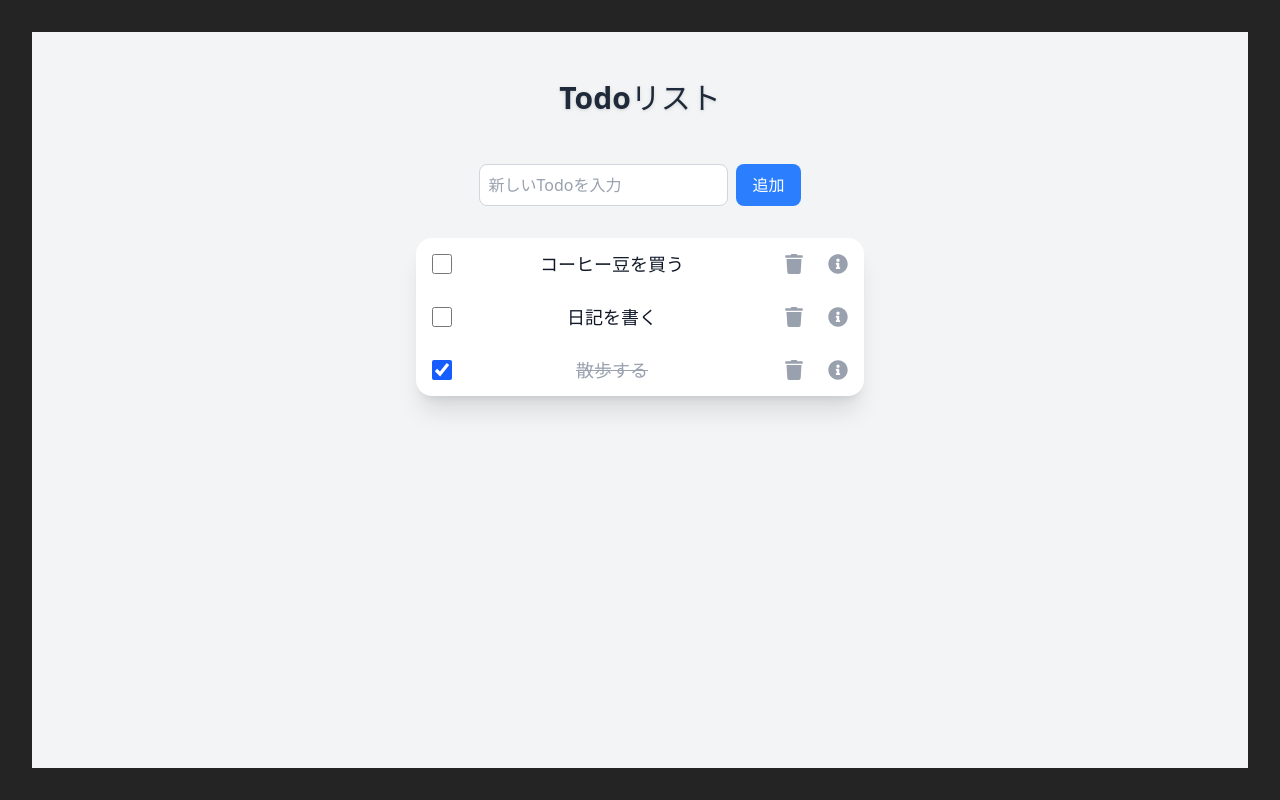
Test case: Todoを削除できる
Type "ラジオを聴く" into the field with placeholder "新しいTodoを入力" at {"x": 604, "y": 185}, box x1=480 y1=164 x2=728 y2=206
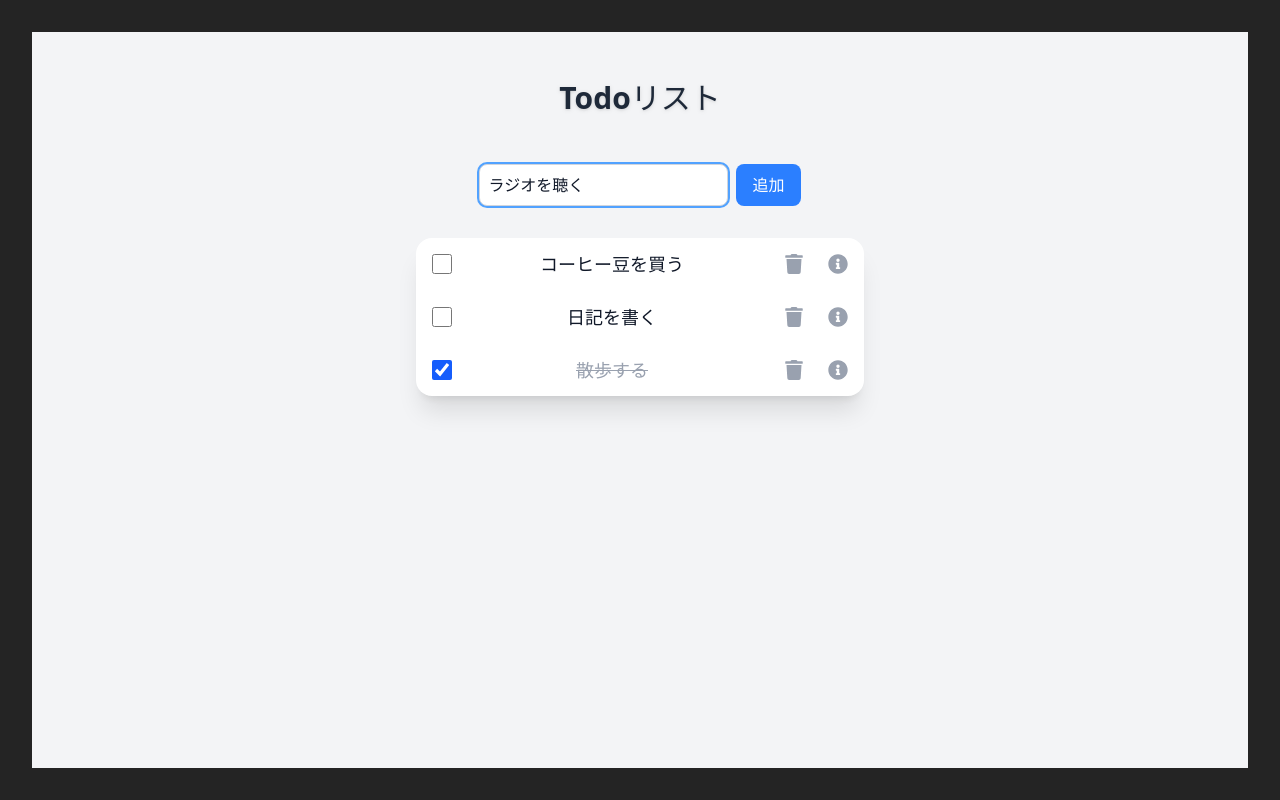
Click the button "追加" at {"x": 768, "y": 185}, box x1=736 y1=164 x2=800 y2=206
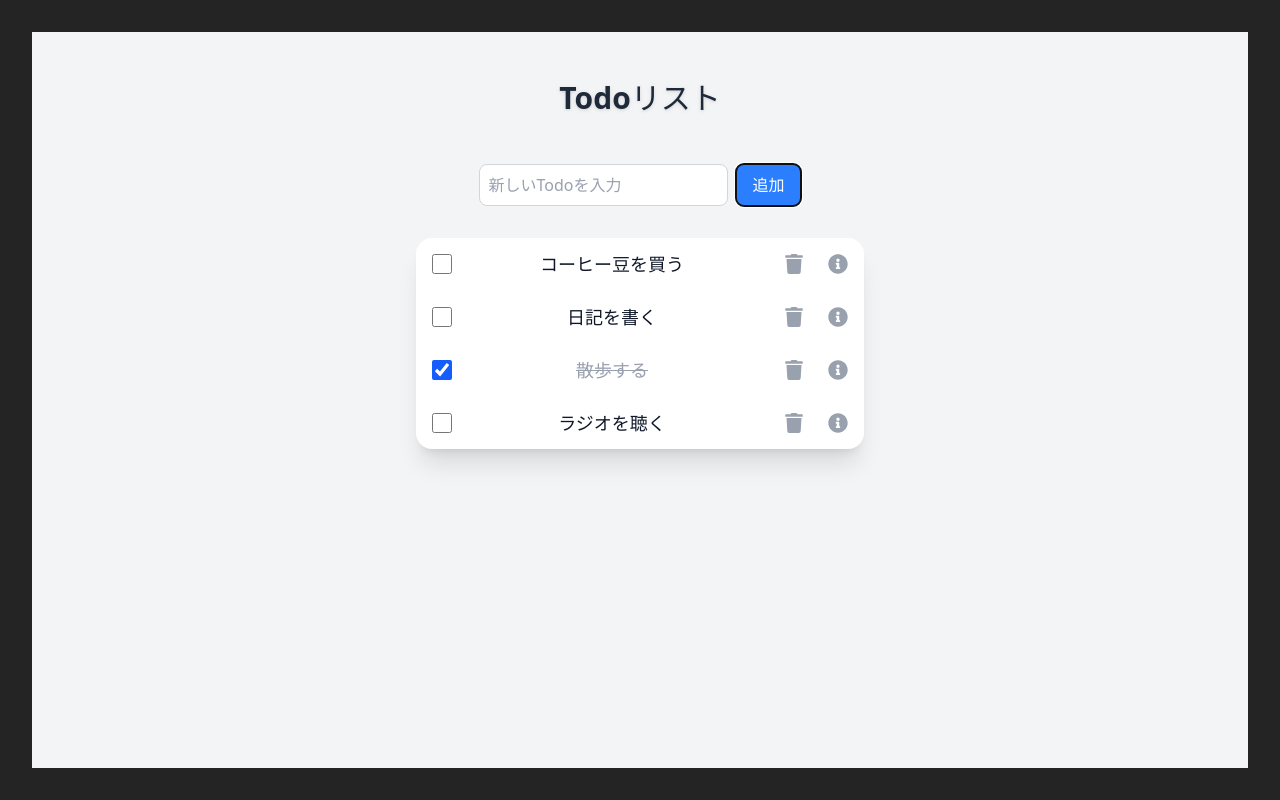
Expected: the text "ラジオを聴く" is shown, x1=558 y1=411 x2=666 y2=435
Click the button titled "削除" next to "ラジオを聴く" at {"x": 794, "y": 423}, box x1=780 y1=409 x2=808 y2=437
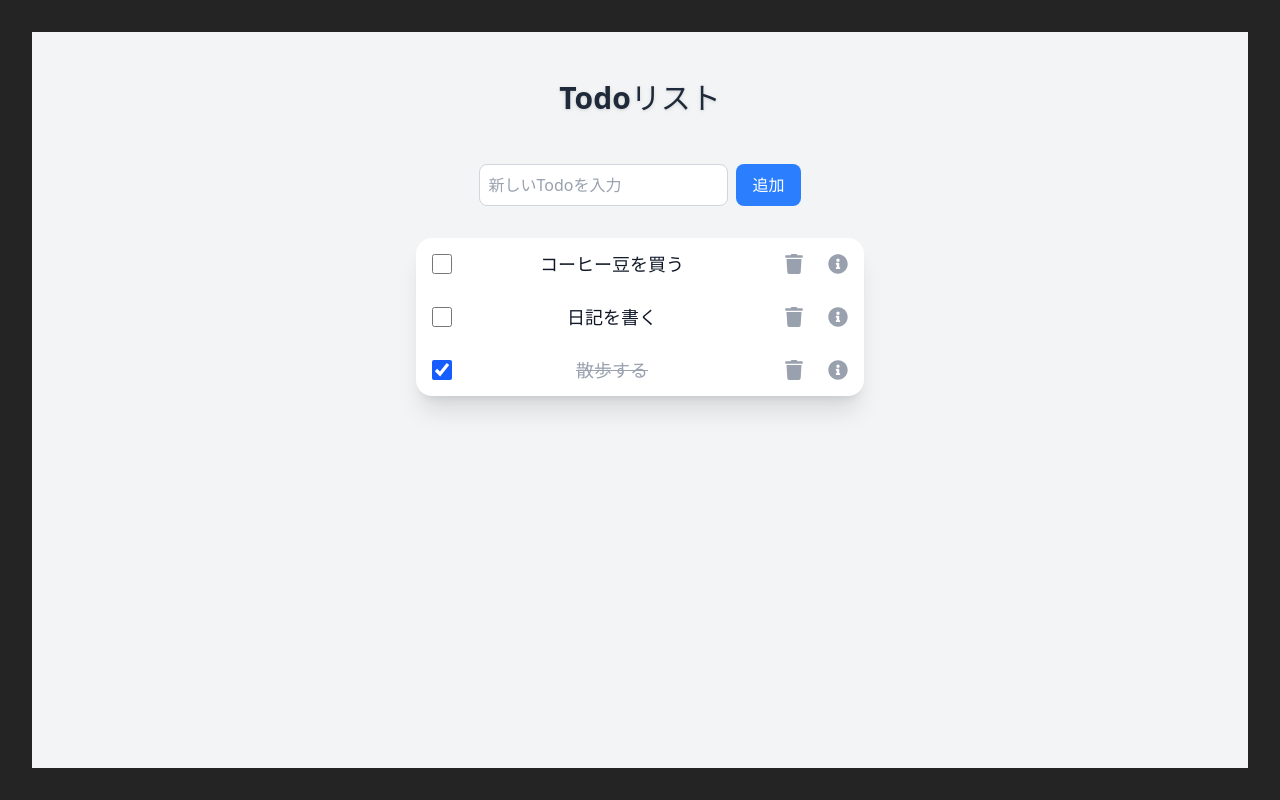
Expected: the text "ラジオを聴く" is gone
